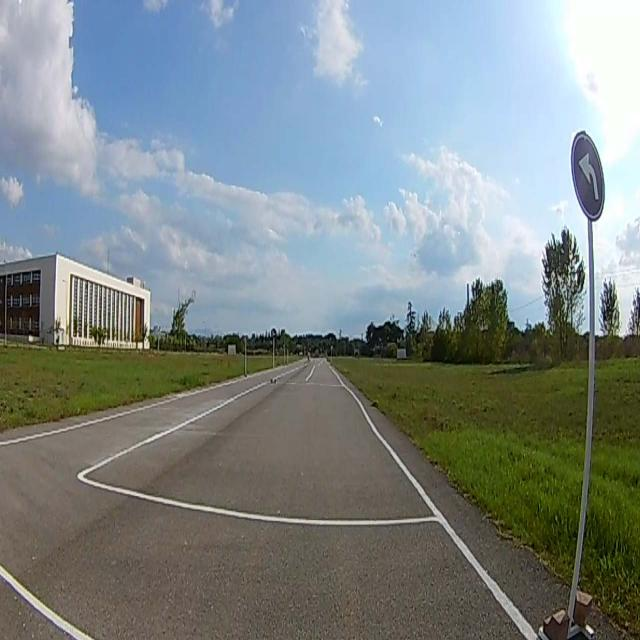sol: (572, 128, 606, 220)
